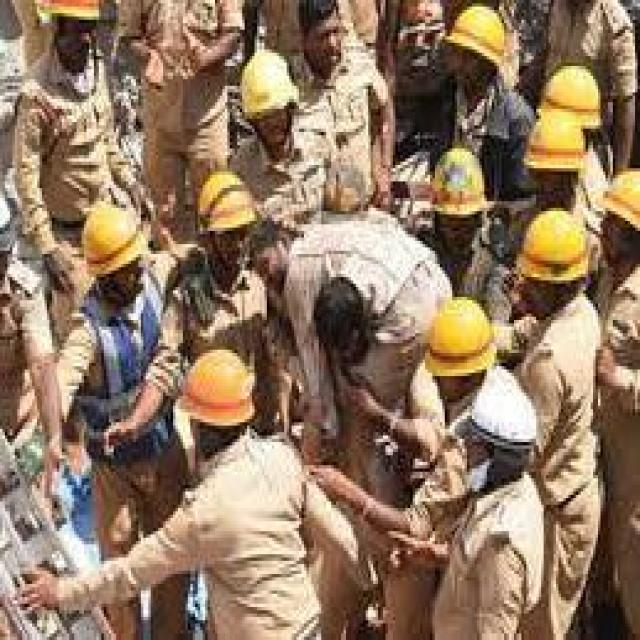Reflective-Jacket: (54, 294, 173, 472)
Safety-Helmet: (168, 340, 267, 435), (418, 287, 504, 386), (509, 201, 596, 294), (74, 188, 156, 284), (465, 366, 541, 452), (440, 0, 516, 76), (425, 138, 492, 224), (190, 165, 264, 241), (232, 46, 302, 126), (522, 112, 590, 178), (595, 158, 640, 257), (22, 0, 121, 33)
